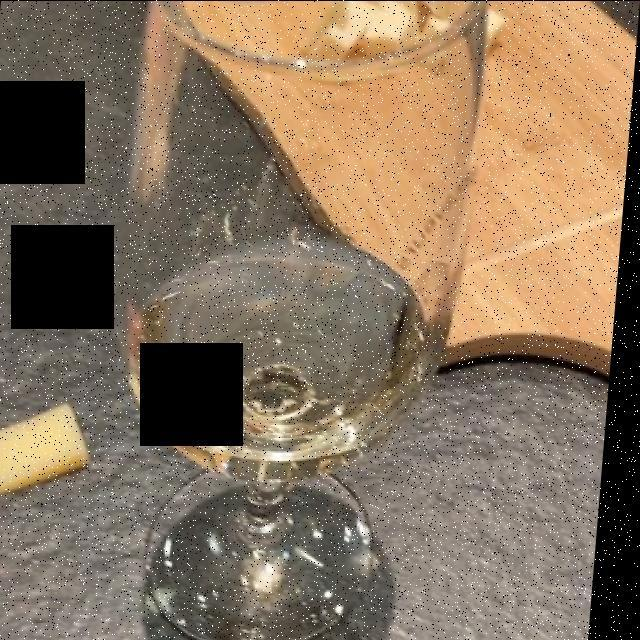wine: (146, 237, 443, 461)
